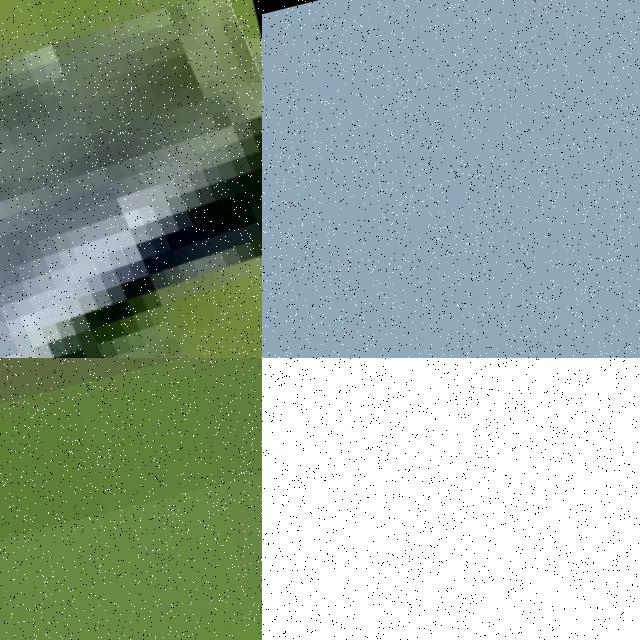0: (0, 0, 262, 358)
drone: (262, 358, 640, 640)
